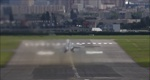maybay_muctieu: (56, 35, 81, 53)
